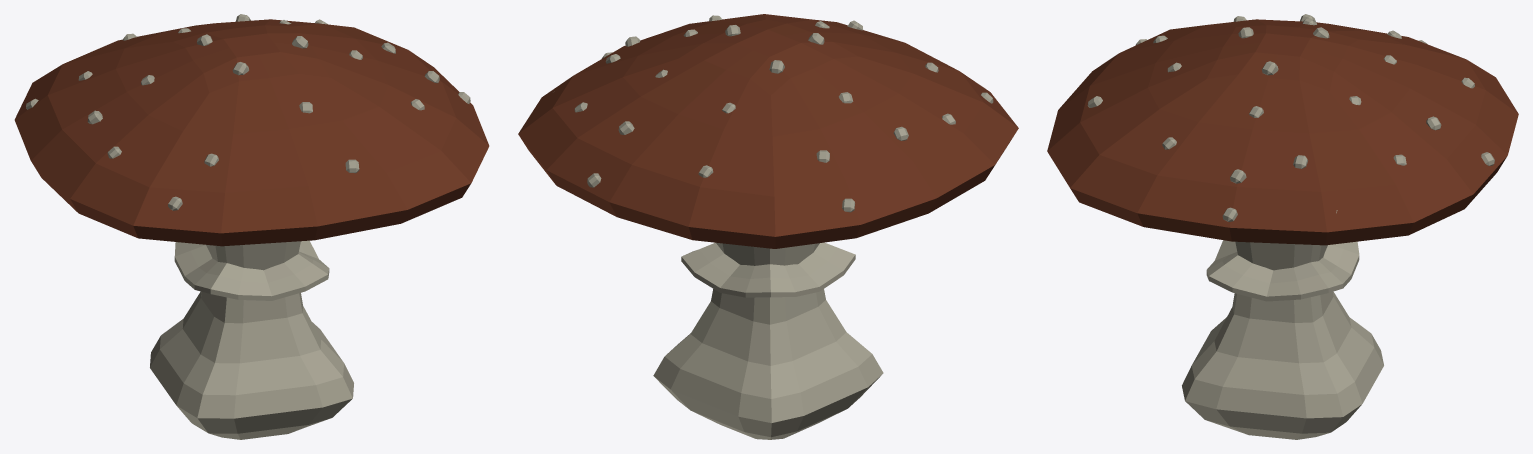
The model's file is Mushroom_4.gltf.
3 renders of one model, left to right at view 1: azimuth 30°, elevation 25°; view 2: azimuth 150°, elevation 25°; view 3: azimuth 270°, elevation 25°, orthographic.
Visible parts, largest first — view 1: Mushroom_4; view 2: Mushroom_4; view 3: Mushroom_4.
Boxes of the visible parts, <box> form: Mushroom_4: <box>14,14,489,439</box>; Mushroom_4: <box>518,14,1018,439</box>; Mushroom_4: <box>1047,14,1518,439</box>.
Bounding box in the file's own units: 0.4451 × 0.3995 × 0.4451.
